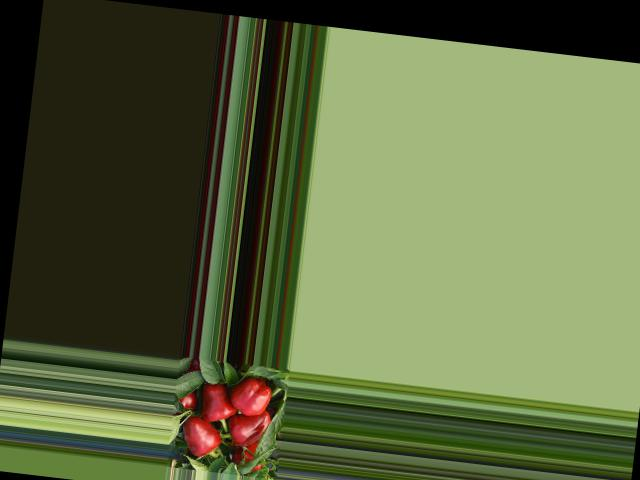bell_pepper: (219, 375, 276, 418)
